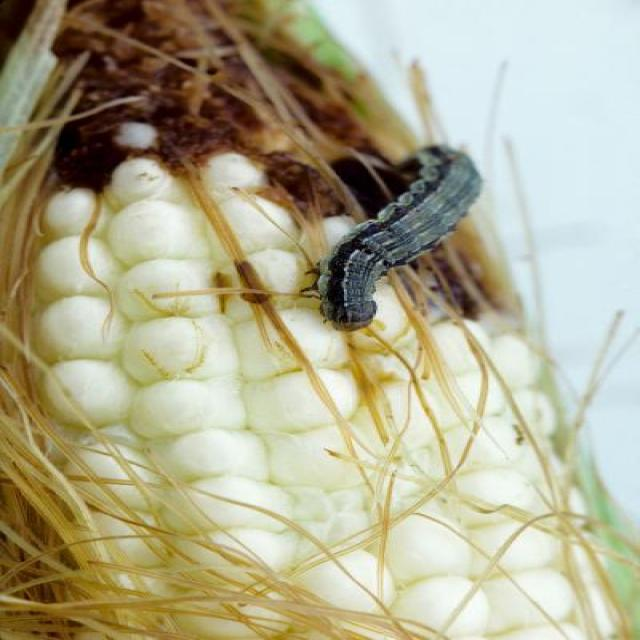Corn-earworm: (311, 139, 490, 335)
